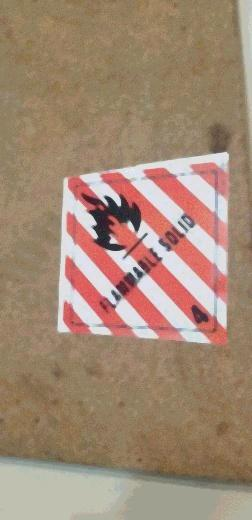flammable-solid: (56, 150, 230, 347)
